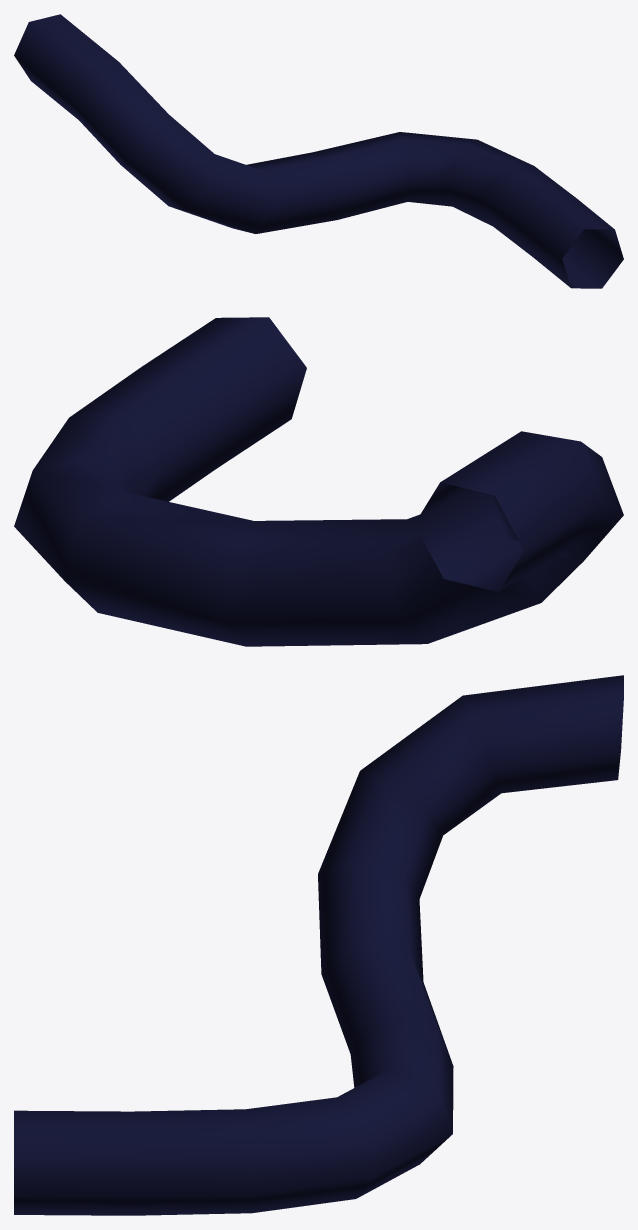
File: Cable_side_R.fbx
3 renders of one model, top to bottom at view 1: azimuth 30°, elevation 25°; view 2: azimuth 150°, elevation 25°; view 3: azimuth 270°, elevation 25°, orthographic. The views are drawn at different scales.
Parts seen in each view (by area): view 1: Cable_side_R; view 2: Cable_side_R; view 3: Cable_side_R.
Part boxes in pixels (x1=…): Cable_side_R: x1=14, y1=14, x2=623, y2=288; Cable_side_R: x1=14, y1=317, x2=623, y2=646; Cable_side_R: x1=14, y1=675, x2=623, y2=1215.
Bounding box in the file's own units: 0.8211 × 0.3899 × 0.7521.
